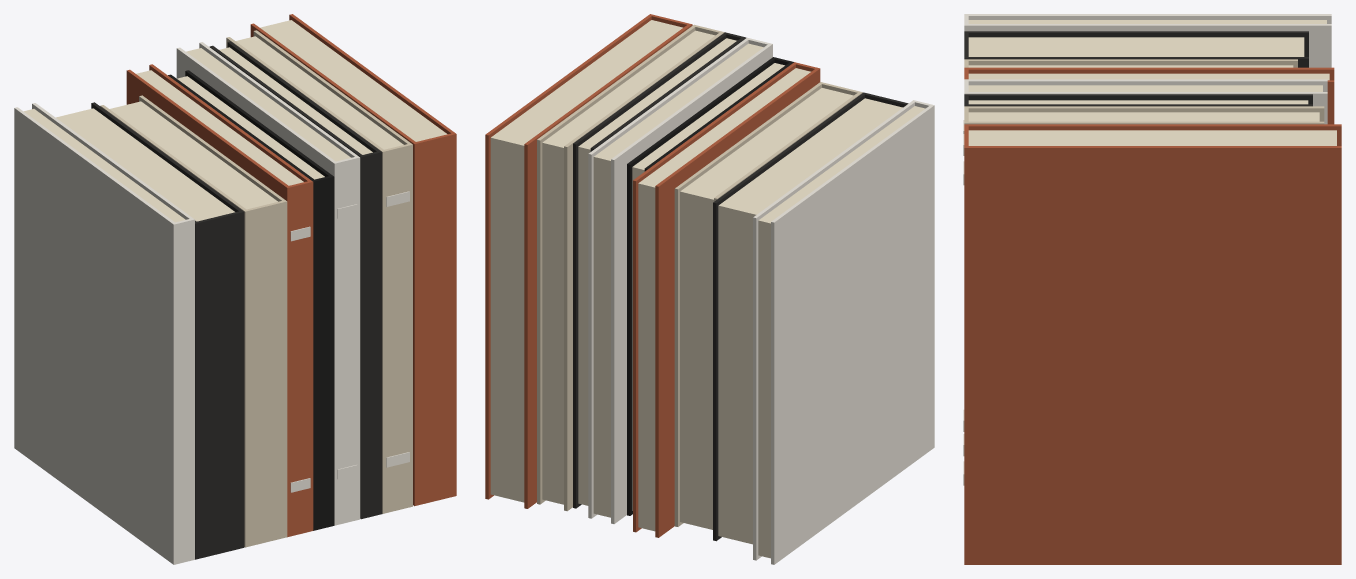
The picture shows the model from 3 angles, left to right: view 1: azimuth 30°, elevation 25°; view 2: azimuth 150°, elevation 25°; view 3: azimuth 270°, elevation 25°; orthographic projection. The views are drawn at different scales.
Visible parts, largest first — view 1: book, book.001, book.008, book.002, book.005, book.007, book.003, book.006, book.004; view 2: book, book.008, book.003, book.005, book.001, book.002, book.007, book.006, book.004; view 3: book.008, book.001, book, book.007, book.005, book.003, book.006, book.002.
Part boxes in pixels (bbox=[...]): book: bbox=[14, 103, 194, 564]; book.001: bbox=[56, 102, 244, 559]; book.008: bbox=[250, 14, 456, 506]; book.002: bbox=[100, 95, 287, 547]; book.005: bbox=[176, 42, 360, 525]; book.007: bbox=[226, 30, 412, 513]; book.003: bbox=[126, 64, 313, 537]; book.006: bbox=[209, 41, 382, 519]; book.004: bbox=[168, 70, 334, 530]; book: bbox=[753, 100, 934, 564]; book.008: bbox=[485, 14, 692, 508]; book.003: bbox=[633, 62, 820, 537]; book.005: bbox=[588, 37, 772, 523]; book.001: bbox=[713, 92, 908, 544]; book.002: bbox=[674, 82, 862, 529]; book.007: bbox=[537, 24, 724, 511]; book.006: bbox=[573, 32, 746, 508]; book.004: bbox=[627, 57, 793, 515]; book.008: bbox=[964, 124, 1341, 564]; book.001: bbox=[964, 31, 1308, 67]; book: bbox=[964, 14, 1331, 67]; book.007: bbox=[963, 106, 1324, 485]; book.005: bbox=[963, 79, 1327, 456]; book.003: bbox=[963, 67, 1334, 431]; book.006: bbox=[964, 94, 1312, 106]; book.002: bbox=[964, 59, 1297, 67].
Size of the model in its own units: 0.242 by 0.2961 by 0.2436.
